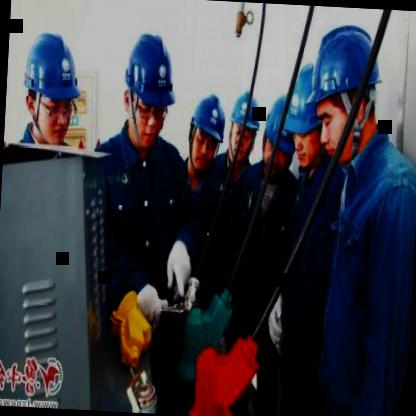helmet: (309, 20, 378, 160), (14, 22, 86, 155), (118, 22, 180, 154), (281, 61, 325, 171), (184, 89, 228, 178), (260, 96, 296, 181), (228, 91, 260, 163)
